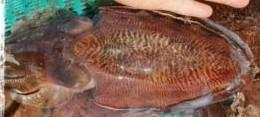Cephalopod: (5, 6, 255, 109)
